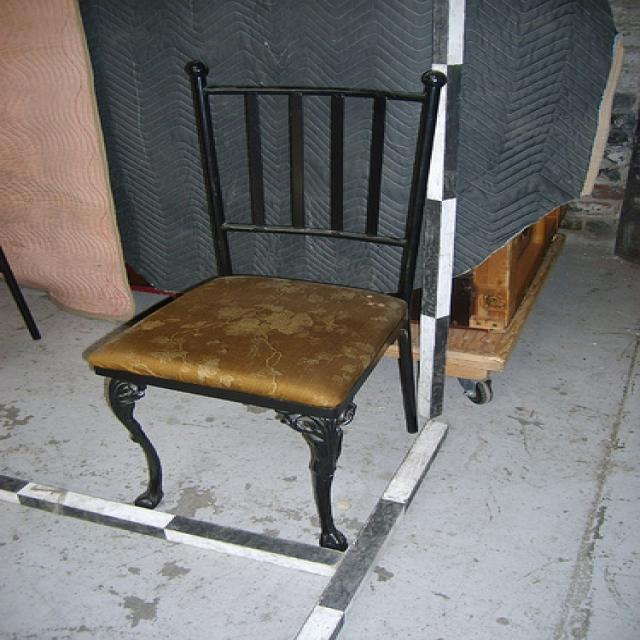chair: (82, 58, 447, 552)
